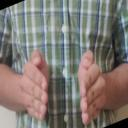hand: (77, 49, 109, 126), (20, 48, 49, 120)
